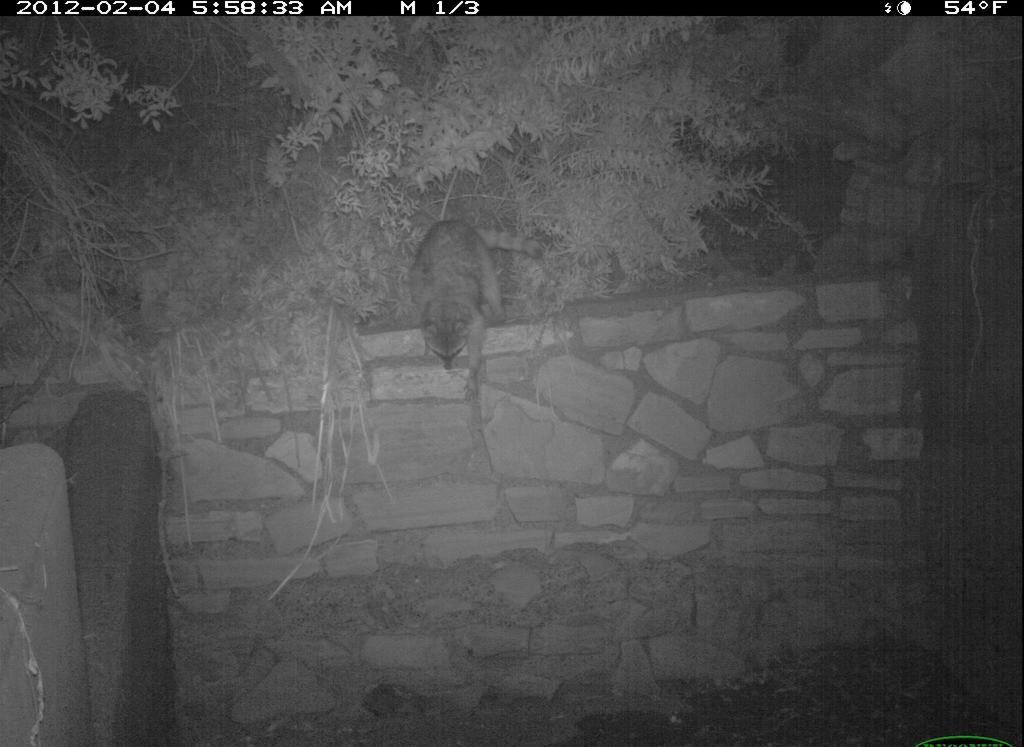raccoon: (386, 210, 562, 383)
